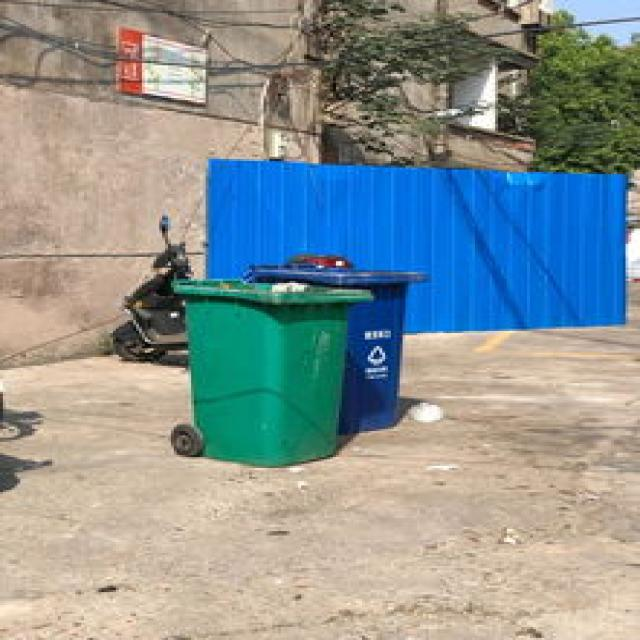garbage_bin: (171, 274, 368, 468), (240, 259, 426, 433)
